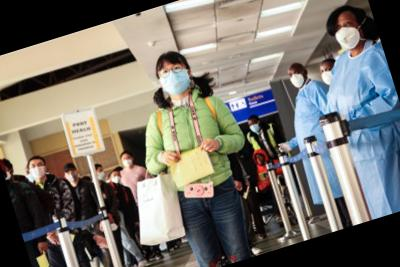with_mask: (156, 59, 195, 100), (332, 15, 365, 54), (28, 160, 50, 182), (288, 68, 308, 91), (320, 66, 339, 88), (62, 168, 81, 185), (121, 154, 136, 171), (249, 120, 263, 134), (110, 172, 123, 186), (95, 168, 107, 182)
without_mask: (255, 154, 266, 166)
